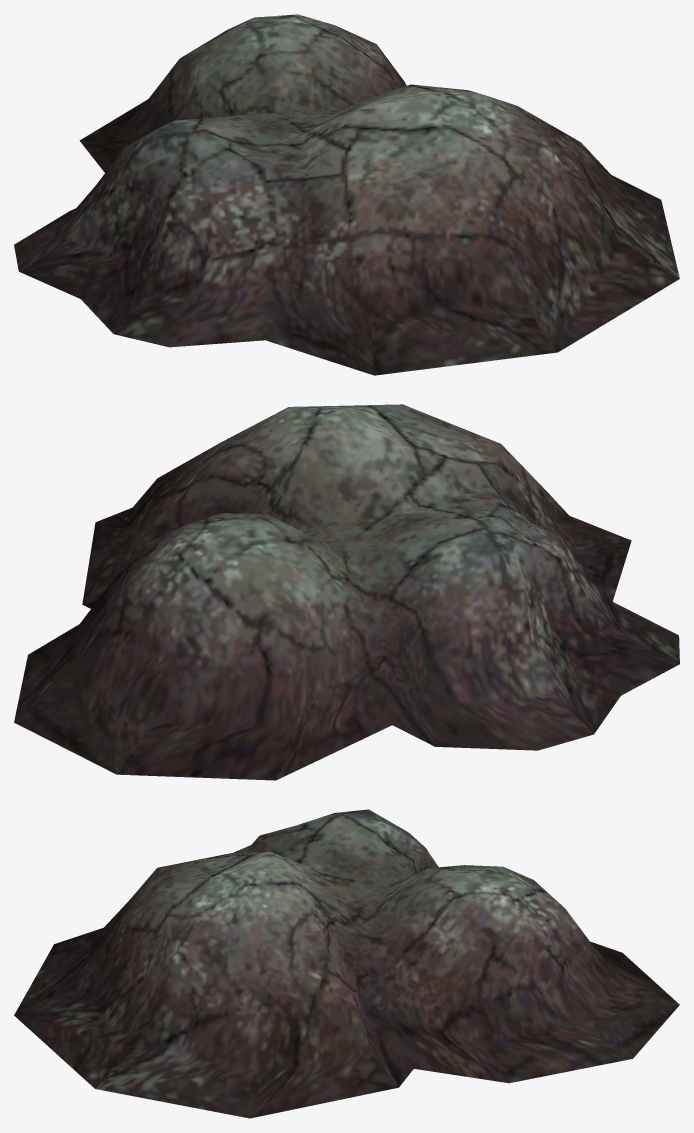
Rendered from robot_lamp_growing03_flat.dae.
3 renders of one model, top to bottom at view 1: azimuth 30°, elevation 25°; view 2: azimuth 150°, elevation 25°; view 3: azimuth 270°, elevation 25°, orthographic. The views are drawn at different scales.
Parts seen in each view (by area): view 1: robot_lamp_growing03_flat; view 2: robot_lamp_growing03_flat; view 3: robot_lamp_growing03_flat.
Part boxes in pixels (<box>): robot_lamp_growing03_flat: <box>14,14,679,375</box>; robot_lamp_growing03_flat: <box>14,404,679,780</box>; robot_lamp_growing03_flat: <box>14,809,679,1118</box>.
Size of the model in its own units: 0.3098 by 0.1004 by 0.356.
